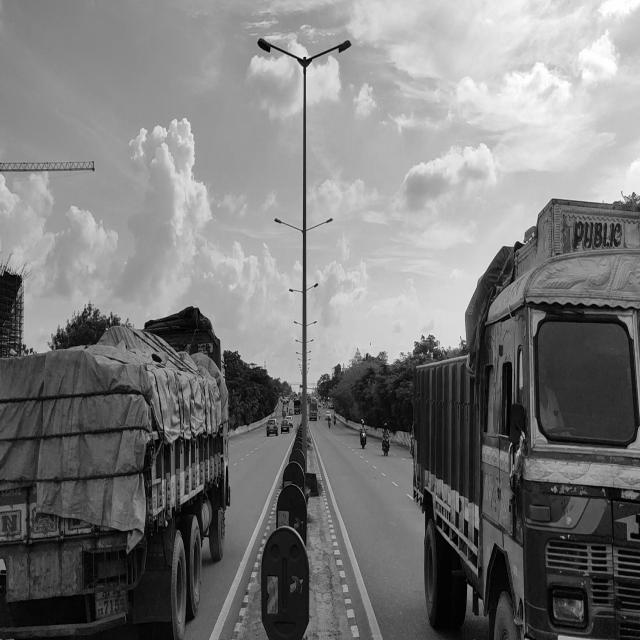bike: (383, 405, 397, 472), (357, 415, 369, 450)
car: (252, 401, 304, 446)
truck: (379, 136, 640, 640), (379, 253, 640, 640), (0, 245, 238, 634), (0, 250, 234, 632), (620, 184, 627, 243)
